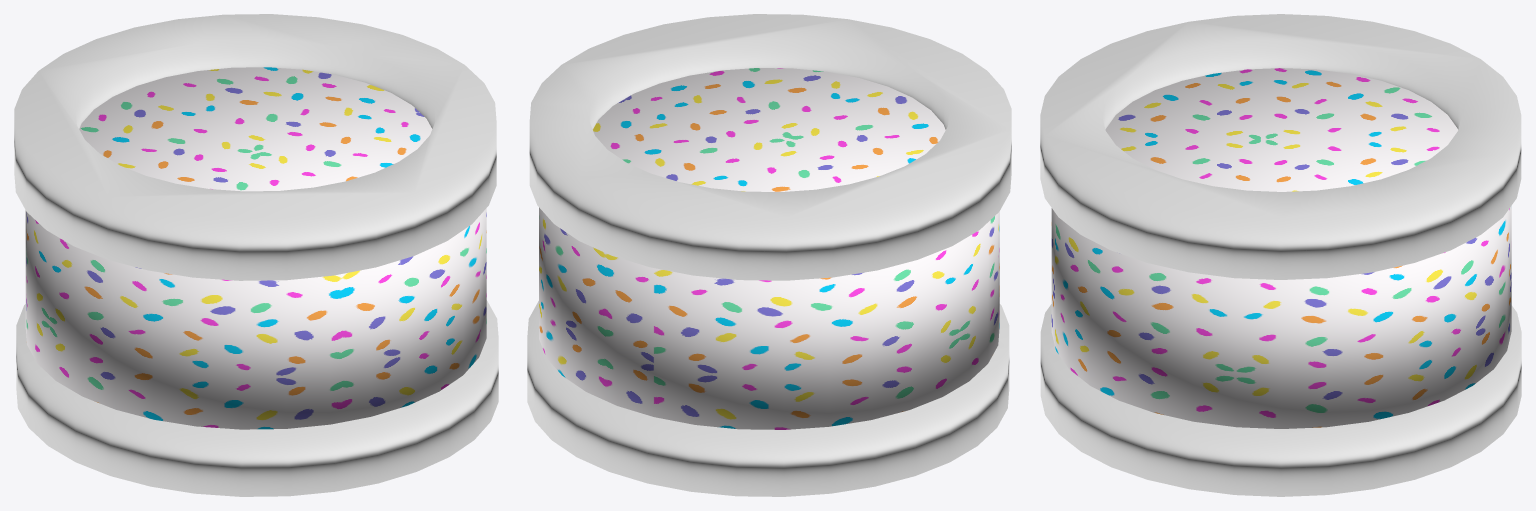
Rendered from new_tieredcake.fbx.
3 views of the same model, side by side, from view 1: azimuth 30°, elevation 25°; view 2: azimuth 150°, elevation 25°; view 3: azimuth 270°, elevation 25° (orthographic).
Visible parts, largest first — view 1: Cylinder, Cylinder.001, Cylinder.003; view 2: Cylinder, Cylinder.001, Cylinder.003; view 3: Cylinder, Cylinder.001, Cylinder.003.
Boxes of the visible parts, x1=… form: Cylinder: x1=25, y1=67, x2=486, y2=429; Cylinder.001: x1=14, y1=14, x2=496, y2=280; Cylinder.003: x1=16, y1=300, x2=498, y2=496; Cylinder: x1=539, y1=68, x2=999, y2=429; Cylinder.001: x1=529, y1=14, x2=1011, y2=280; Cylinder.003: x1=527, y1=301, x2=1009, y2=496; Cylinder: x1=1051, y1=68, x2=1511, y2=428; Cylinder.001: x1=1040, y1=14, x2=1521, y2=279; Cylinder.003: x1=1040, y1=304, x2=1521, y2=496.
Size of the model in its own units: 411 by 261 by 409.
Materials: 3 (1 with a texture image).
